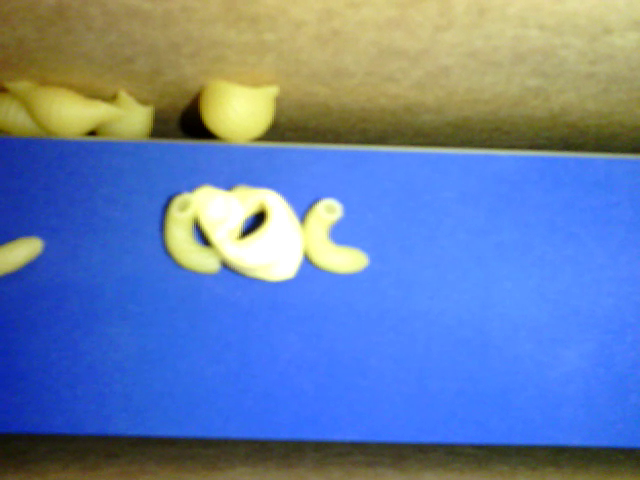elbow: (303, 196, 368, 274), (163, 190, 222, 274)
shell: (1, 78, 132, 137), (200, 78, 279, 143), (89, 85, 157, 141), (1, 90, 59, 137)
tortellini: (189, 183, 306, 280)
